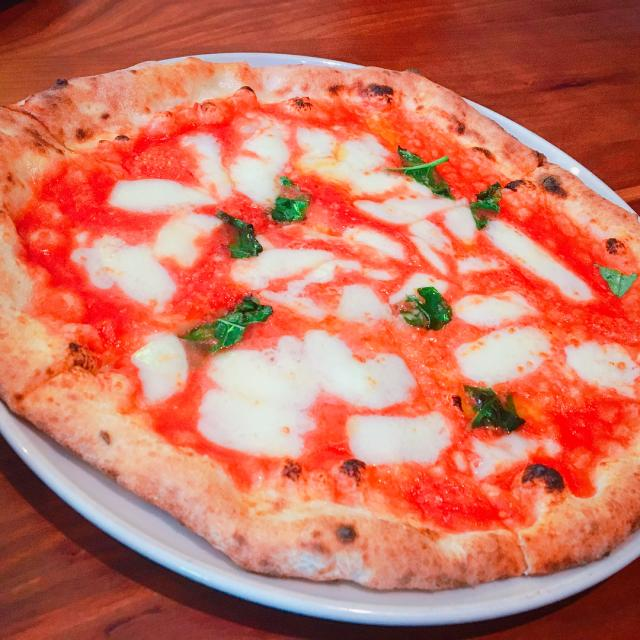basil: (178, 287, 275, 353), (391, 142, 454, 200), (464, 381, 529, 435), (212, 212, 265, 262), (399, 285, 454, 331), (268, 173, 314, 228), (467, 180, 503, 231), (594, 258, 639, 298)
pizza: (0, 54, 640, 596)
